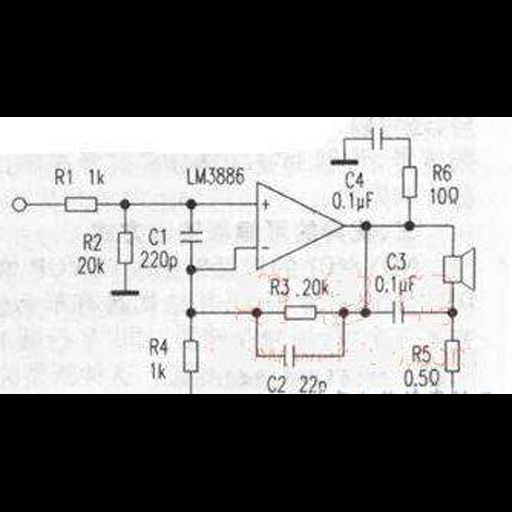amplifier: (251, 179, 344, 272)
capacitor: (178, 224, 205, 249), (277, 342, 301, 370), (368, 122, 389, 153), (389, 299, 409, 326)
firstresistance: (180, 334, 204, 377), (278, 301, 322, 324), (400, 159, 420, 205), (114, 227, 135, 270), (442, 336, 464, 377), (59, 194, 104, 214)
loudspeaker: (441, 245, 479, 296)
